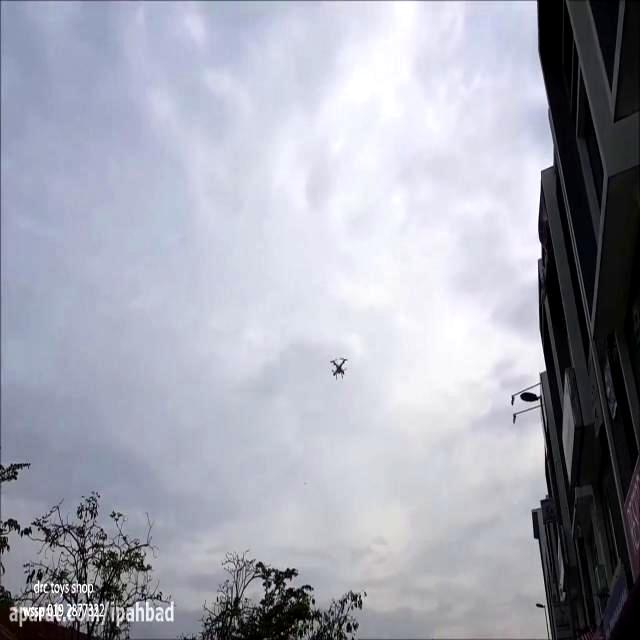drone: (328, 354, 349, 381)
